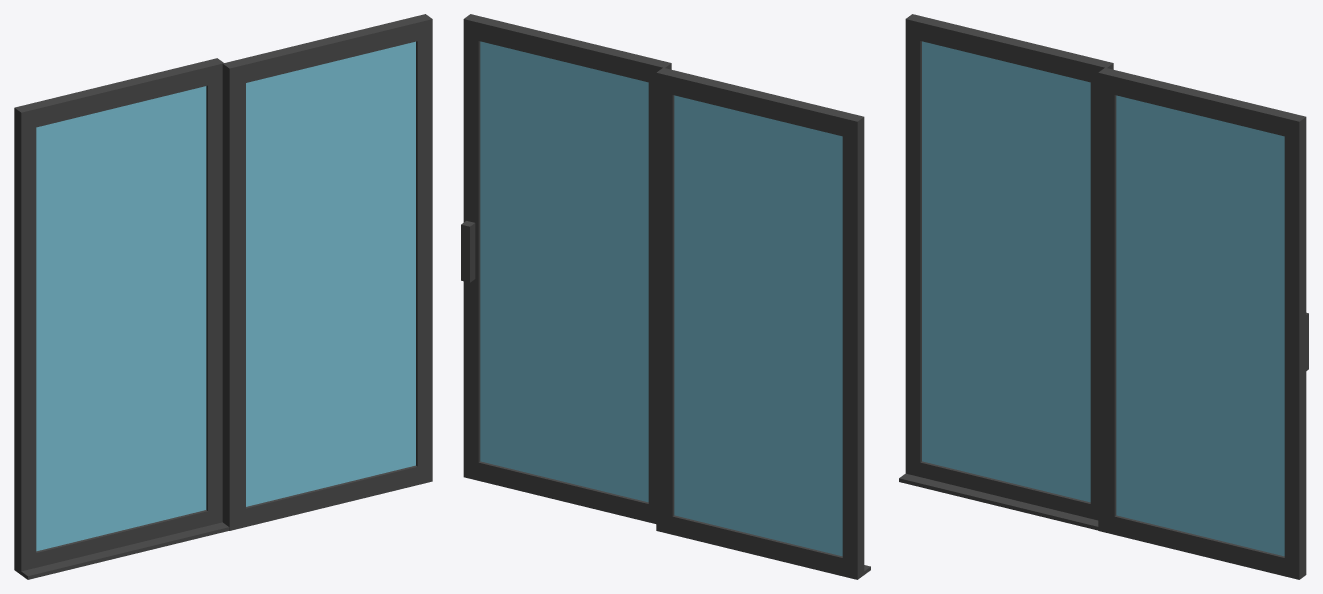
The model's file is WallWBricksSlidingDoor.fbx.
3 views of the same model, side by side, from view 1: azimuth 30°, elevation 25°; view 2: azimuth 150°, elevation 25°; view 3: azimuth 330°, elevation 25° (orthographic).
Visible parts, largest first — view 1: Cube.006, Cube.004; view 2: Cube.006, Cube.004, Cube.005; view 3: Cube.004, Cube.006.
Part boxes in pixels (<box>): Cube.006: <box>14,58,229,579</box>; Cube.004: <box>222,14,432,530</box>; Cube.006: <box>656,67,870,579</box>; Cube.004: <box>463,14,671,523</box>; Cube.005: <box>461,221,475,282</box>; Cube.004: <box>1098,67,1306,579</box>; Cube.006: <box>899,14,1113,530</box>.
Bounding box in the file's own units: 134 × 146 × 7.92.
